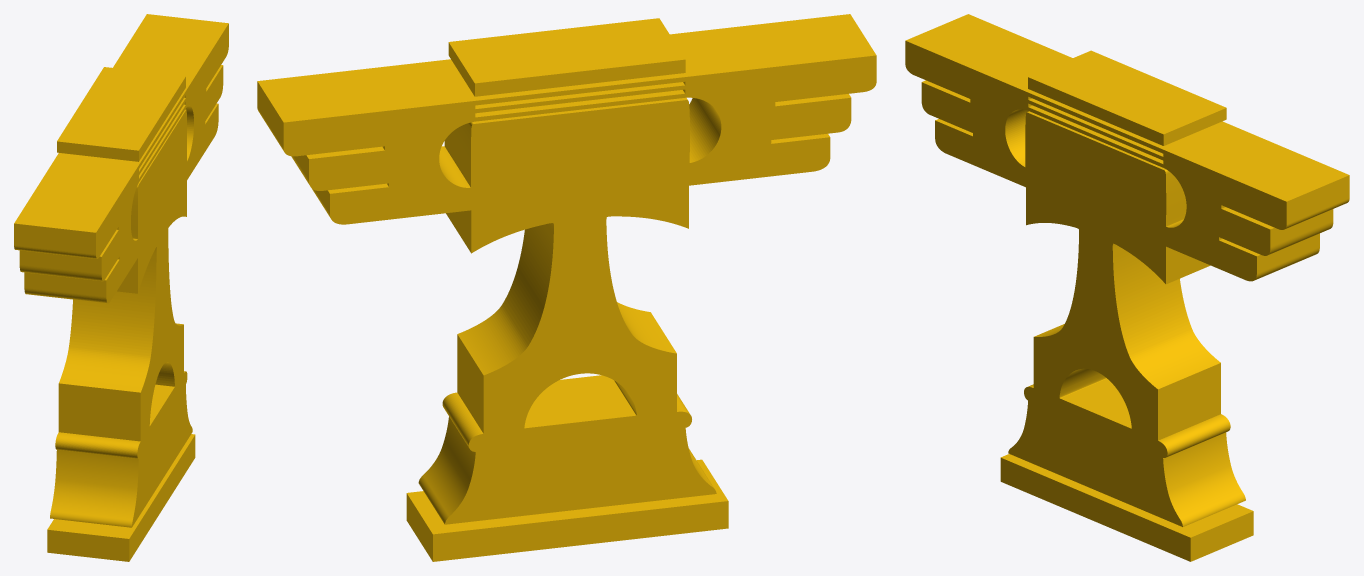
The model's file is piston-cup3d.glb.
3 views of the same model, side by side, from view 1: azimuth 30°, elevation 25°; view 2: azimuth 150°, elevation 25°; view 3: azimuth 270°, elevation 25° (orthographic). The views are drawn at different scales.
Bounding box in the file's own units: 82.42 × 85.17 × 82.42.
